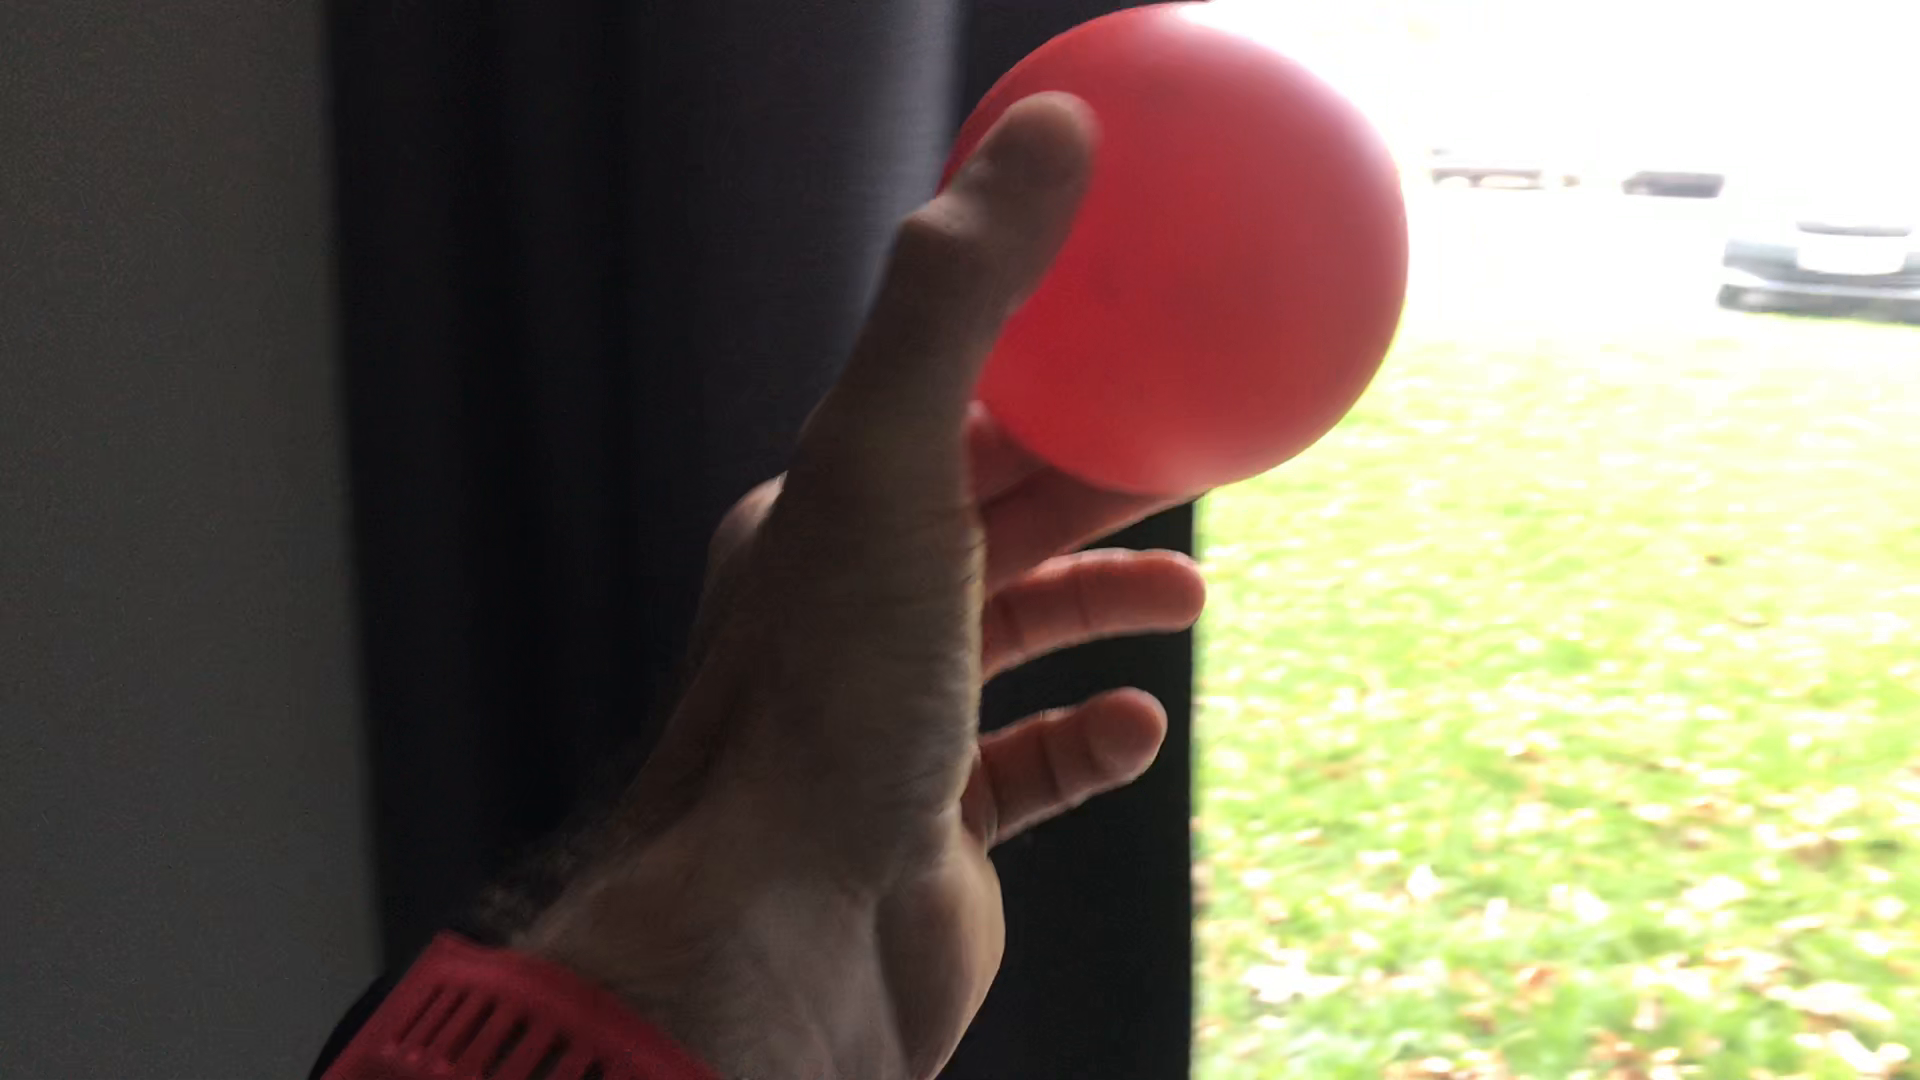Ball: (935, 5, 1404, 498)
